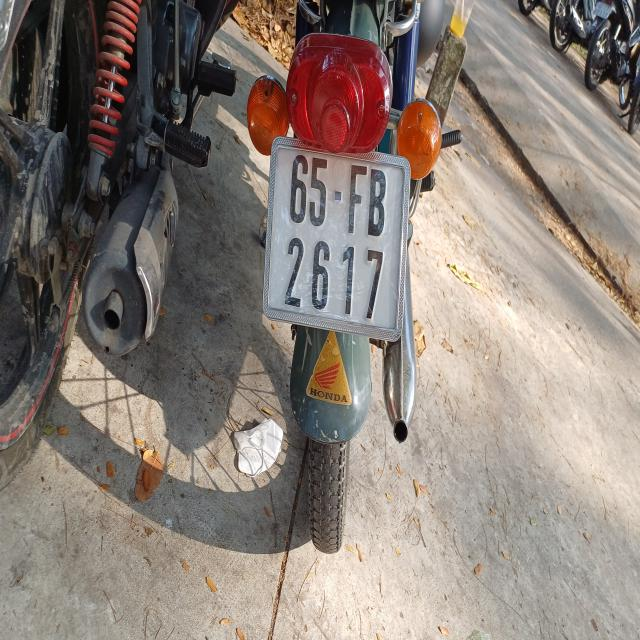1: (339, 245, 360, 317)
2: (286, 238, 304, 308)
5: (310, 156, 328, 228)
6: (287, 157, 309, 222), (314, 238, 332, 313)
7: (363, 248, 385, 322)
B: (367, 168, 388, 238)
F: (348, 161, 366, 239)
